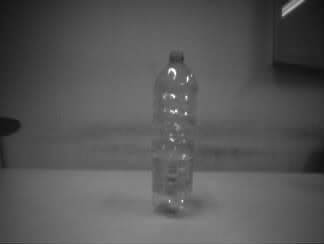Bottle: (150, 46, 199, 217)
